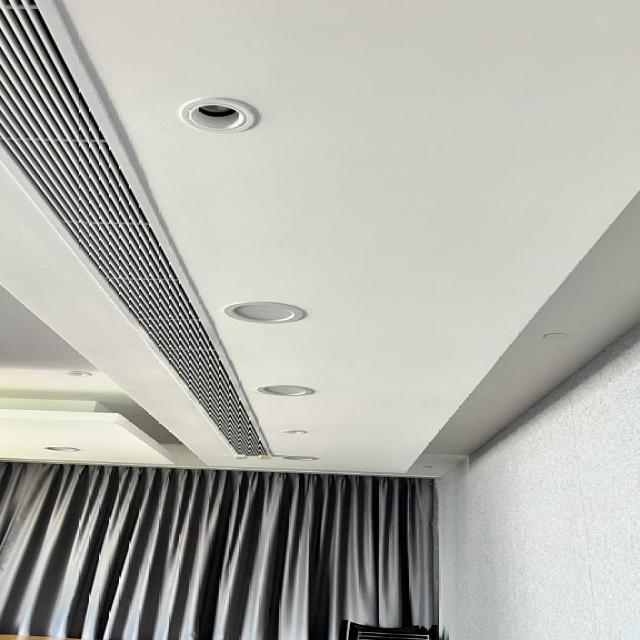Light-Closed: (174, 93, 276, 134), (215, 298, 316, 327), (269, 447, 327, 469), (258, 383, 322, 399), (56, 362, 99, 381), (42, 440, 86, 455), (282, 426, 312, 436)
